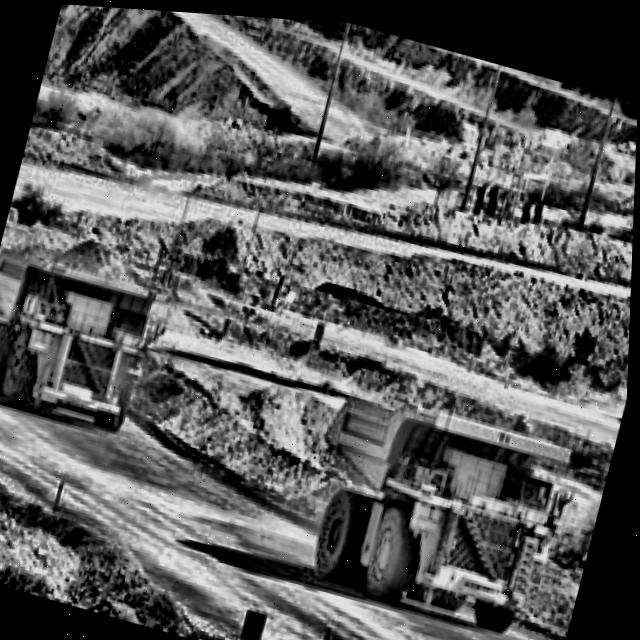dump_truck: (279, 353, 597, 640), (0, 197, 175, 449)
